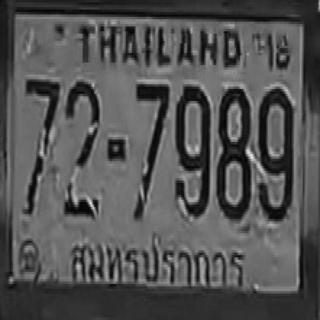N02: (62, 78, 98, 210)
N07: (133, 82, 168, 219), (24, 77, 59, 212)
N08: (216, 84, 250, 219)
N09: (173, 83, 209, 215), (258, 85, 292, 220)
P57: (63, 226, 248, 300)
